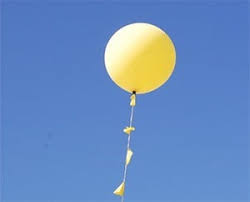Balloon: (104, 22, 176, 95)
